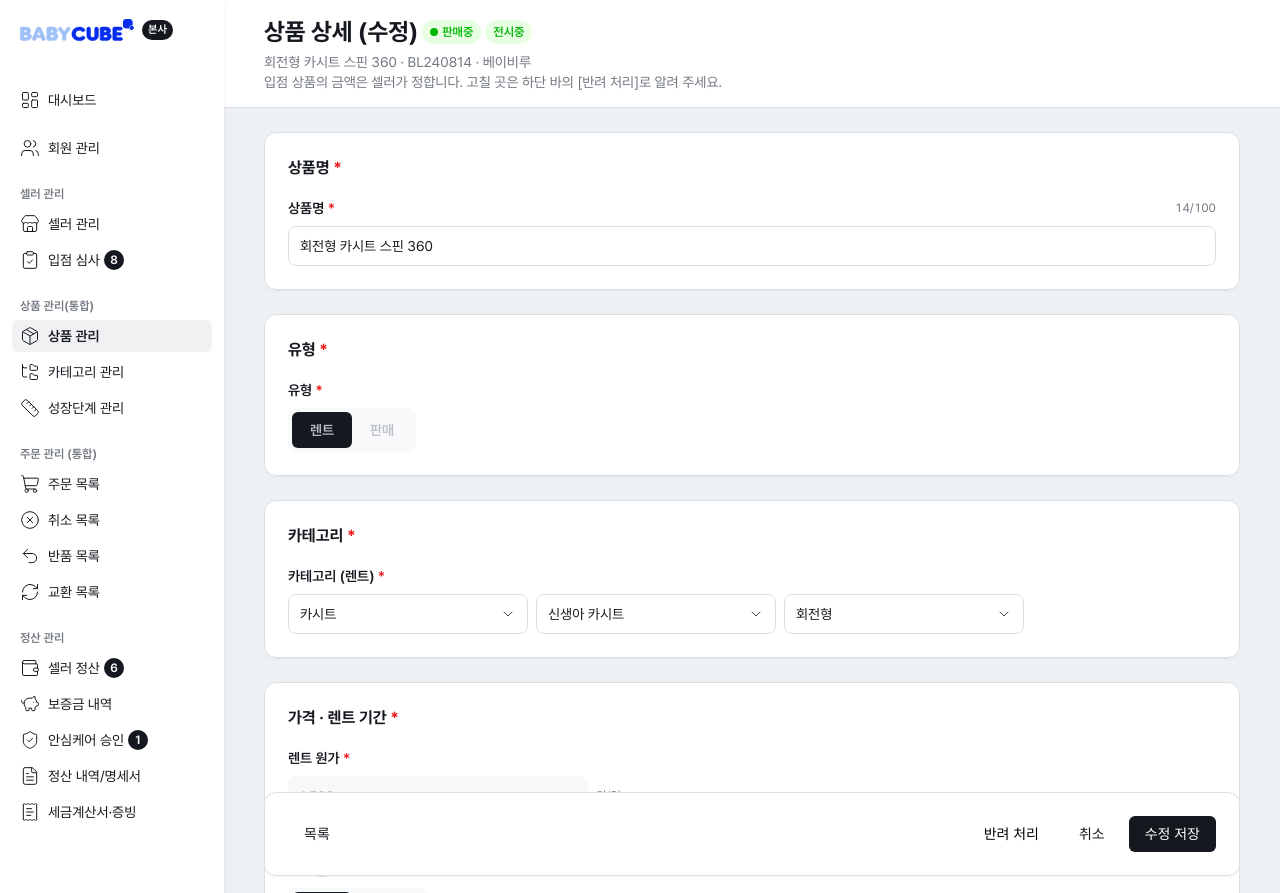
Test: ProductDetailPage (상품 상세 · 1단계) › 하단 바 — 상태가 처분 버튼을 정한다 › 반려는 목록과 같은 창 — 사유가 비면 막고, 적으면 알린다
Step 1. Click the button "반려 처리" → click(1011, 834), box [968, 816, 1055, 852]
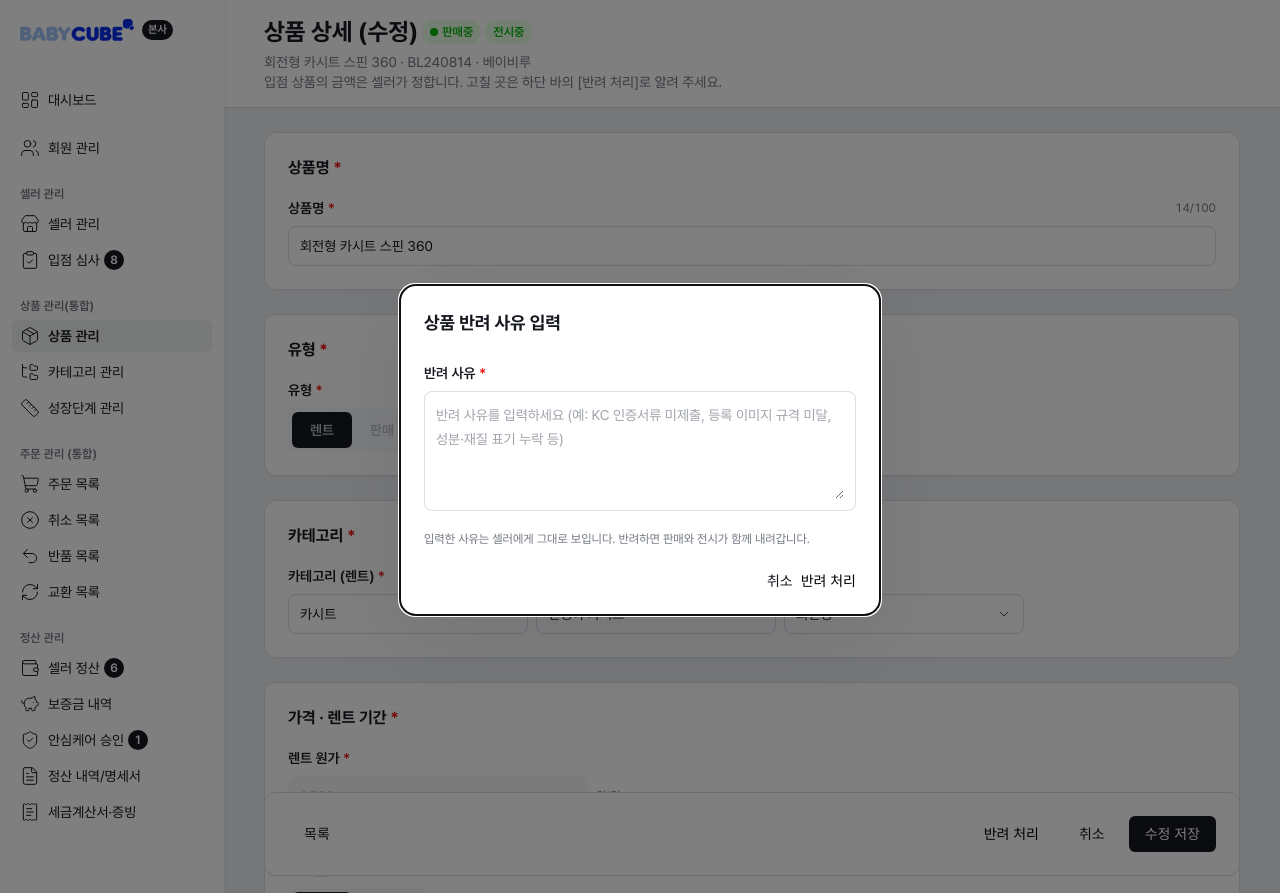
Step 2. Click the button "반려 처리" → click(828, 581), box [801, 571, 856, 591]
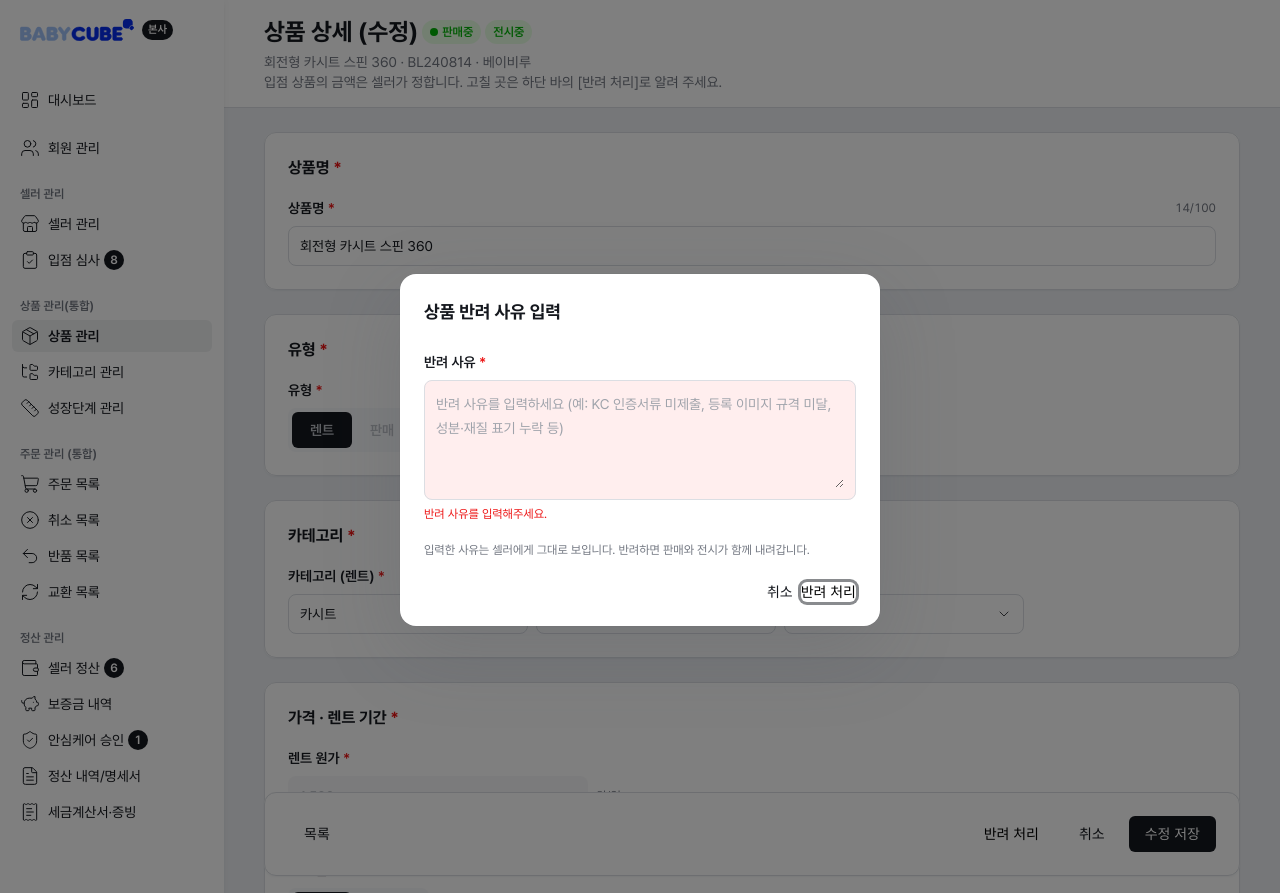
Expected: the message reads "반려 사유를 입력해주세요.", [424, 507, 547, 521]
Step 3. Type "KC 서류 미제출" into the text box → (640, 440), box [436, 392, 844, 488]
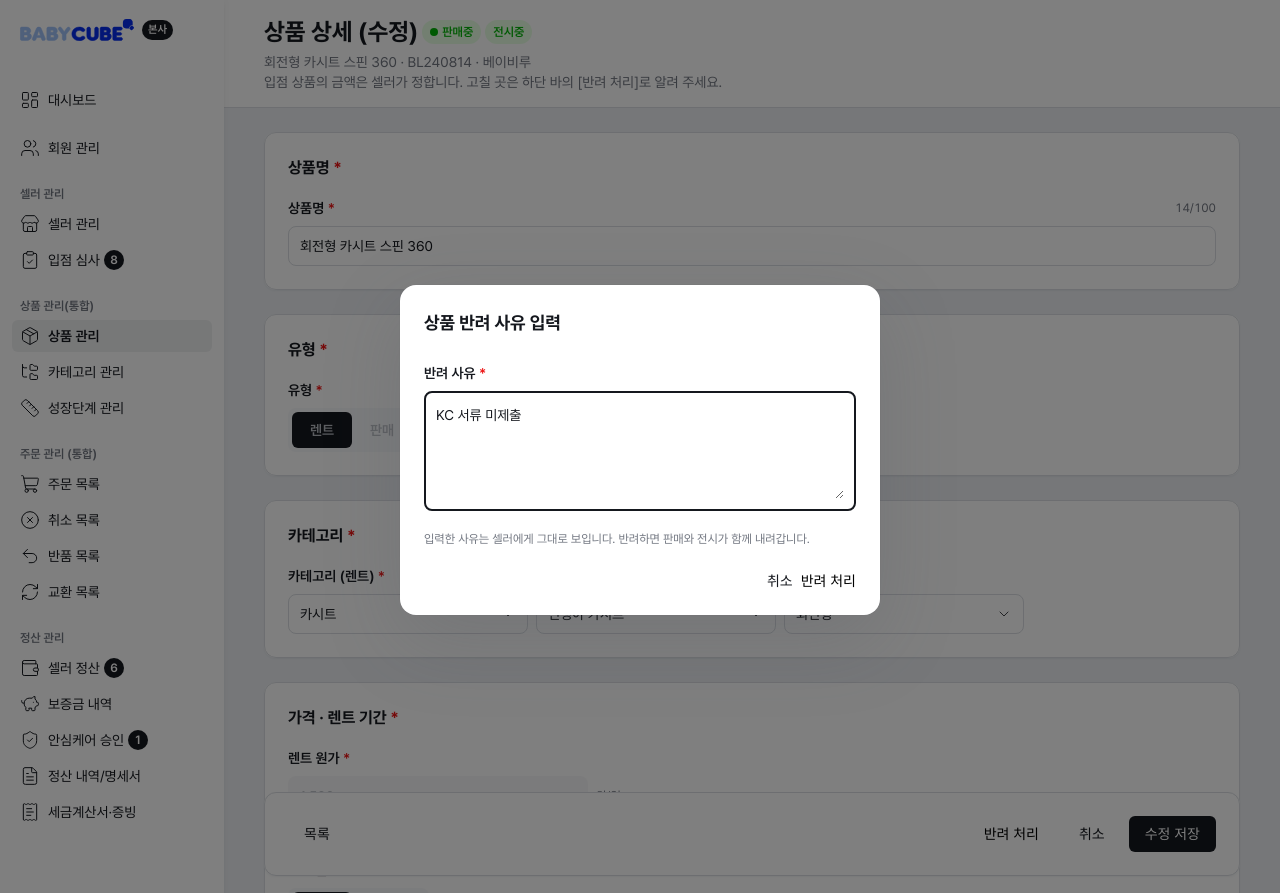
Step 4. Click the button "반려 처리" → click(828, 581), box [801, 571, 856, 591]
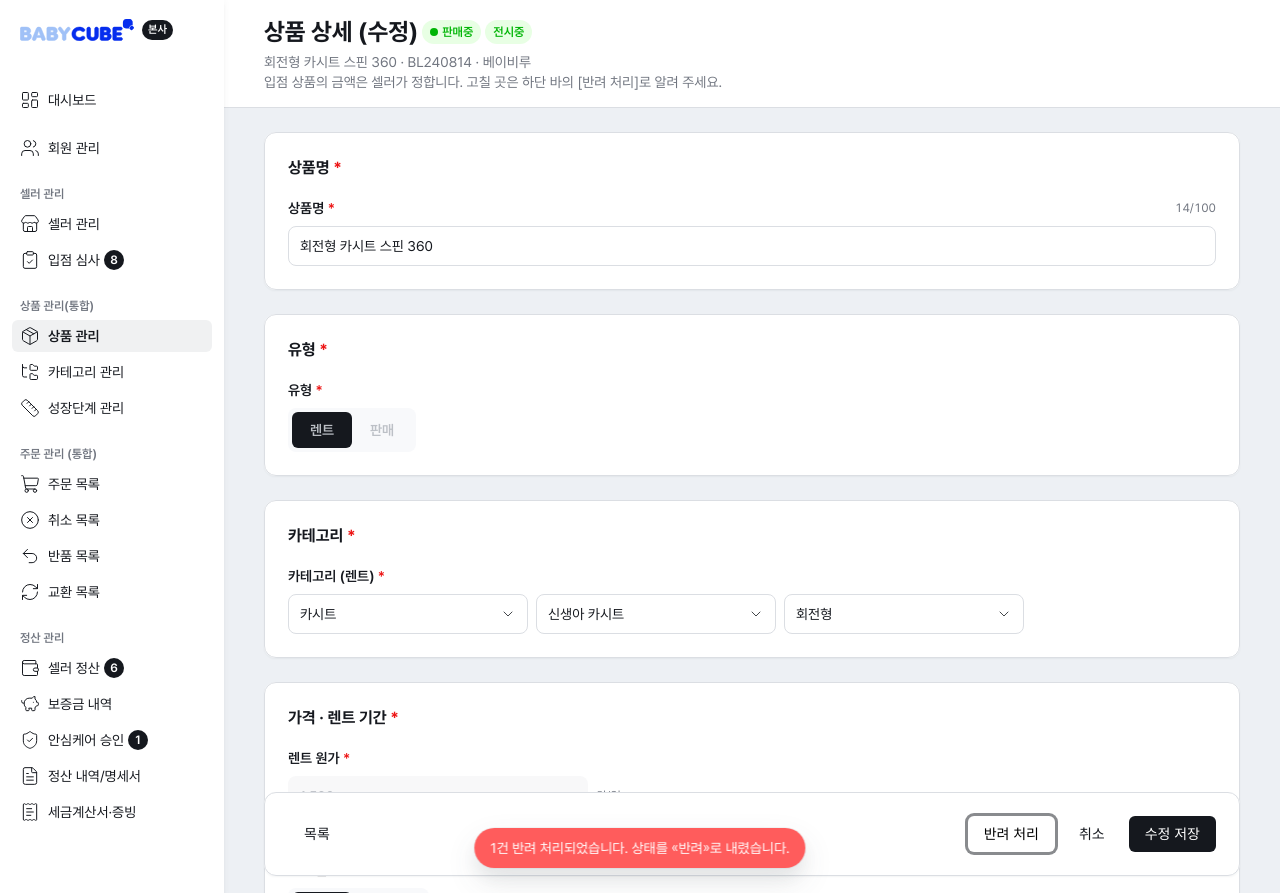
Expected: the text "판매중" is shown, [422, 20, 481, 44]
Expected: the text "1건 반려 처리되었습니다. 상태를 «반려»로 내렸습니다." is shown, [474, 828, 806, 868]
Expected: the dialog is gone
